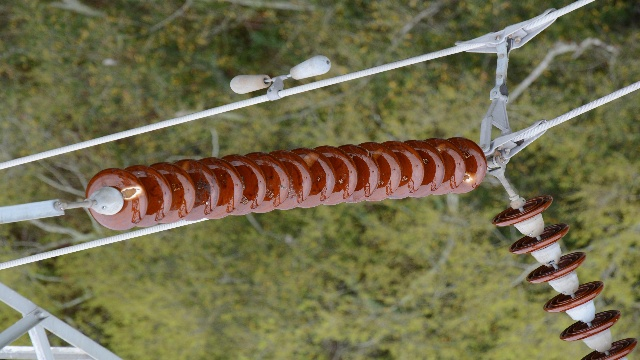insulator_unspecified: (88, 138, 485, 231), (491, 195, 637, 359)
pollution_flashover_local: (119, 184, 144, 200), (460, 168, 482, 186), (302, 150, 320, 169), (372, 147, 385, 159), (437, 143, 448, 155)
